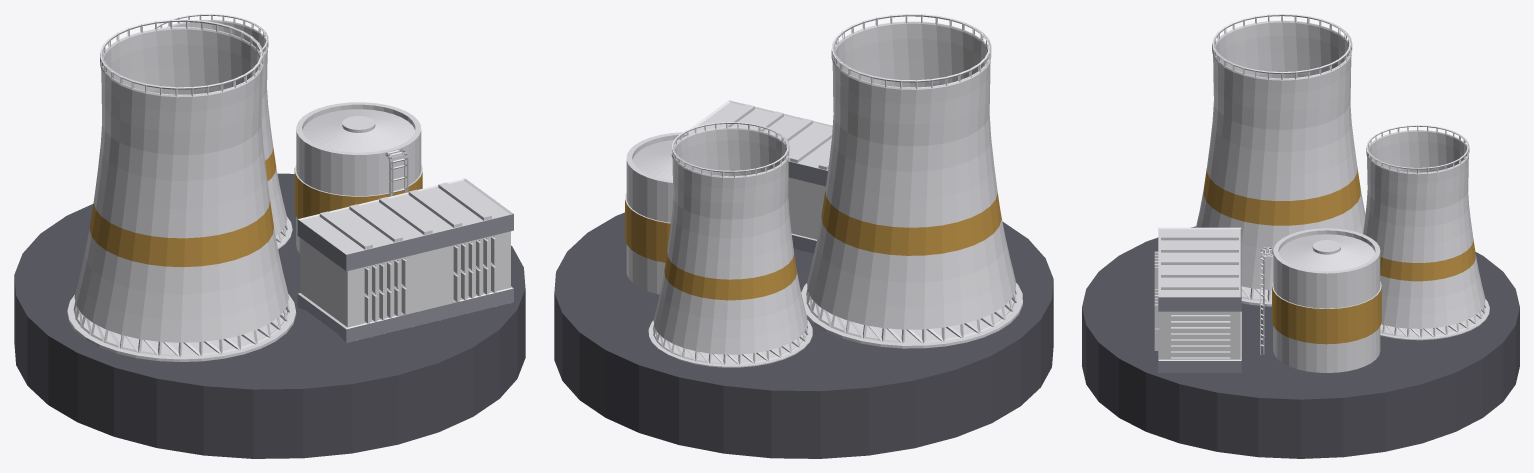
File: nuclear_game_join.glb
The picture shows the model from 3 angles, left to right: view 1: azimuth 30°, elevation 25°; view 2: azimuth 150°, elevation 25°; view 3: azimuth 270°, elevation 25°; orthographic projection. The views are drawn at different scales.
Parts seen in each view (by area): view 1: Cylinder.008; view 2: Cylinder.008; view 3: Cylinder.008.
Boxes of the visible parts, x1,y1,x2,y2 form: Cylinder.008: (14, 14, 525, 458); Cylinder.008: (554, 14, 1053, 458); Cylinder.008: (1082, 14, 1519, 458).
Bounding box in the file's own units: 3.33 × 2.36 × 3.33.
